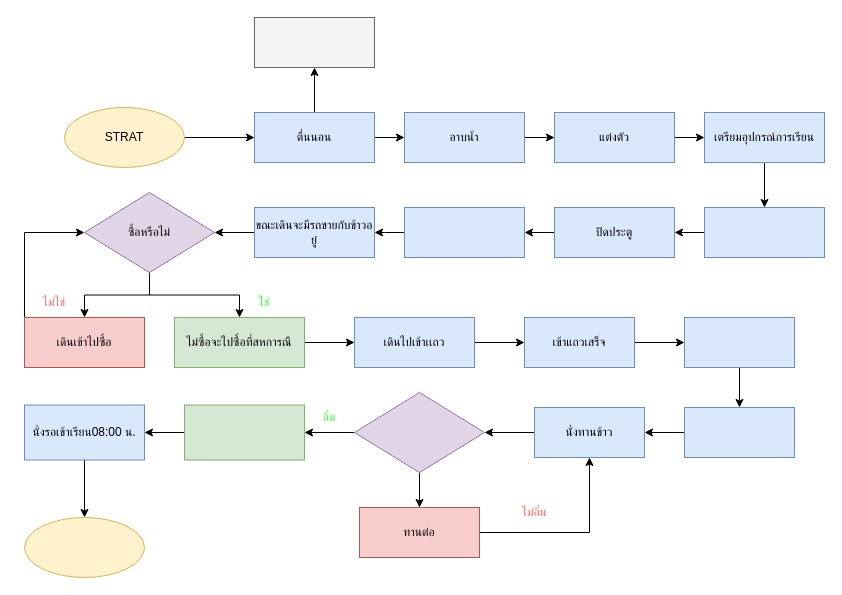
The diagram is 842 pixels wide and 595 high, and some of its shapes have lost their labels. Here are the shapes that lost their labels. From the top down, the centre of each, then its label:
the point at 314,42: ผับผ้าห่มเก็บที่นอน
the point at 464,232: เดินลงบันไดหอ
the point at 764,232: ถอดปลั๊กเครื่องใช้ไฟฟ้า
the point at 739,342: ไปซื้อข้าวที่สหการณ์
the point at 244,432: ดื่มน้ำ
the point at 419,432: อิ่มหรือไม่
the point at 739,432: เดินขึ้นบันไดไปหน้าห้อง
the point at 84,547: END
